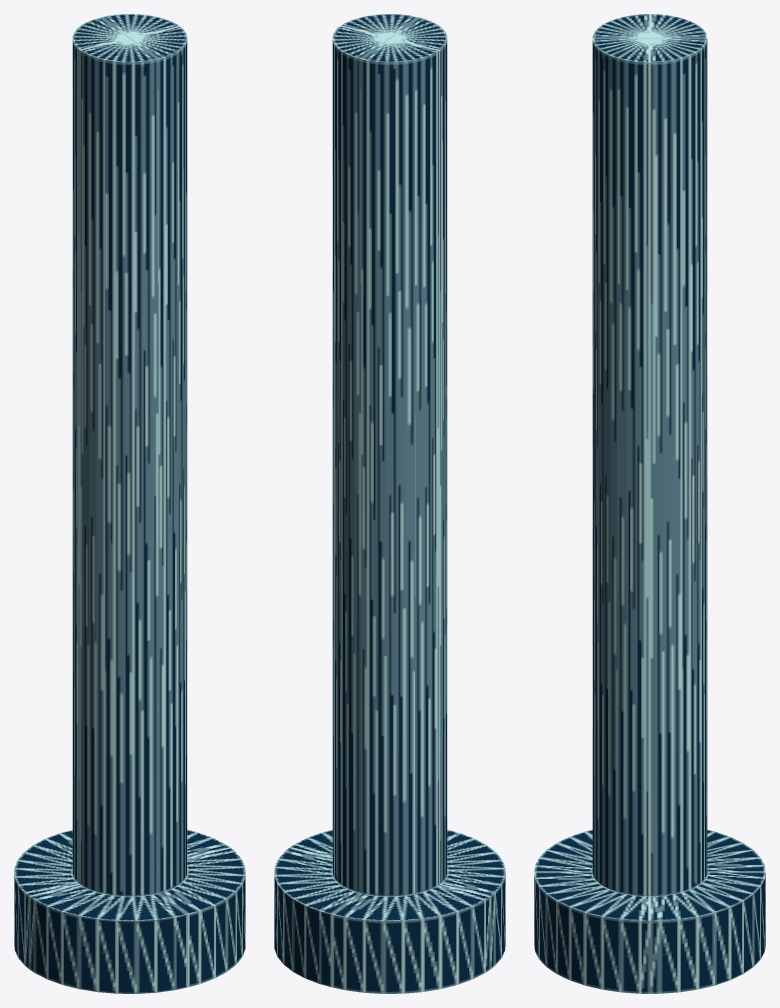
The model's file is Extra-Ejector1-M.glb.
The picture shows the model from 3 angles, left to right: view 1: azimuth 30°, elevation 25°; view 2: azimuth 150°, elevation 25°; view 3: azimuth 270°, elevation 25°; orthographic projection.
Visible parts, largest first — view 1: ejector1.002, ejector1.001; view 2: ejector1.002, ejector1.001; view 3: ejector1.001, ejector1.002.
Boxes of the visible parts, x1,y1,x2,y2 form: ejector1.002: (14, 17, 187, 993); ejector1.001: (101, 14, 245, 987); ejector1.002: (332, 17, 505, 993); ejector1.001: (274, 14, 418, 987); ejector1.001: (534, 38, 765, 993); ejector1.002: (534, 14, 765, 871).
Bounding box in the file's own units: 0.6593 × 2.84 × 0.6576.
1 material, 1 textured.
